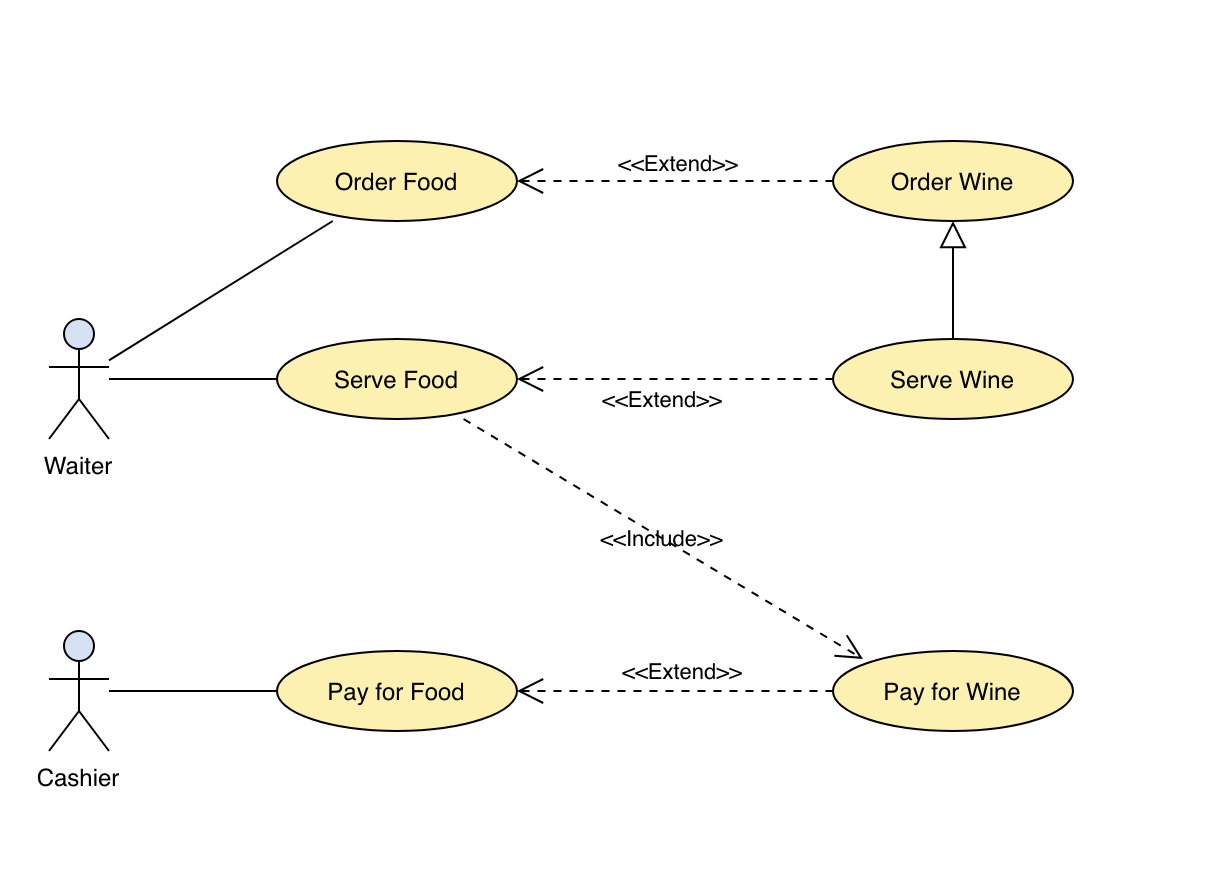actor: (43, 314, 115, 448), (45, 628, 119, 755)
association: (460, 415, 866, 663), (107, 220, 333, 365), (520, 675, 830, 710), (518, 167, 832, 197), (518, 365, 833, 393), (108, 679, 277, 705), (110, 370, 277, 389)
text: (320, 674, 470, 706), (877, 676, 1030, 707), (332, 363, 463, 397), (617, 143, 742, 177), (882, 365, 1017, 396), (334, 167, 462, 199), (618, 659, 747, 688), (599, 525, 730, 553), (889, 167, 1020, 194), (598, 386, 723, 413), (31, 767, 130, 795), (37, 455, 116, 479)
use_case: (274, 138, 520, 224), (272, 336, 518, 422), (831, 138, 1076, 224), (831, 649, 1077, 734), (830, 336, 1073, 422), (274, 648, 518, 733)
